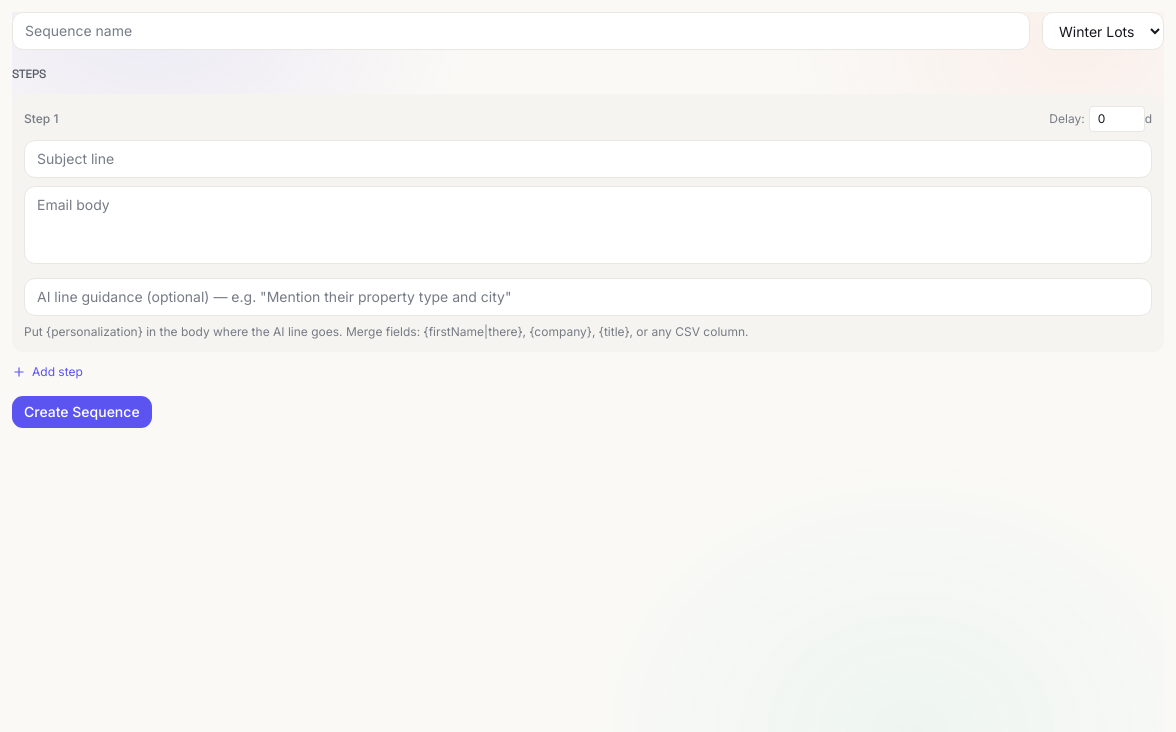
Scenario: CreateSequenceForm — live content risk › uses the org blocked phrases
Type "Ask about our winter promo for commercial lots, plowing and salting across Buffalo this season." into the text box with placeholder "Email body" at (588, 225), box [24,186,1152,264]
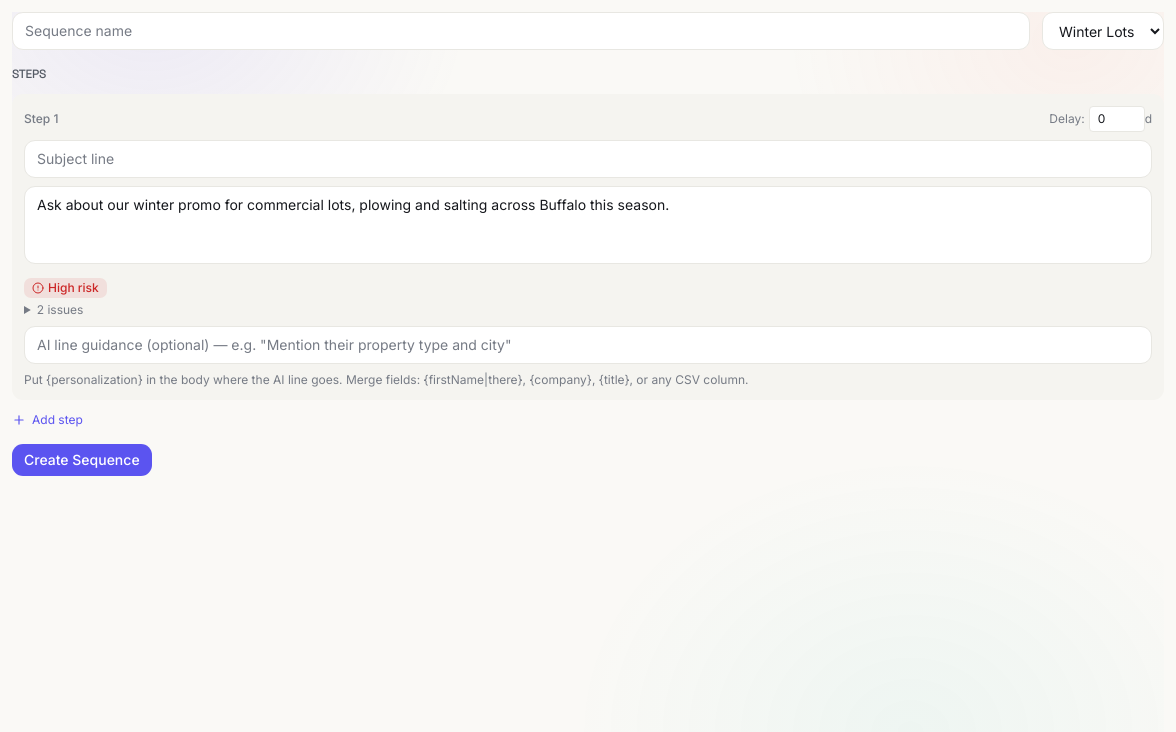
Expected: the text "High risk" is shown, [24,278,107,298]
